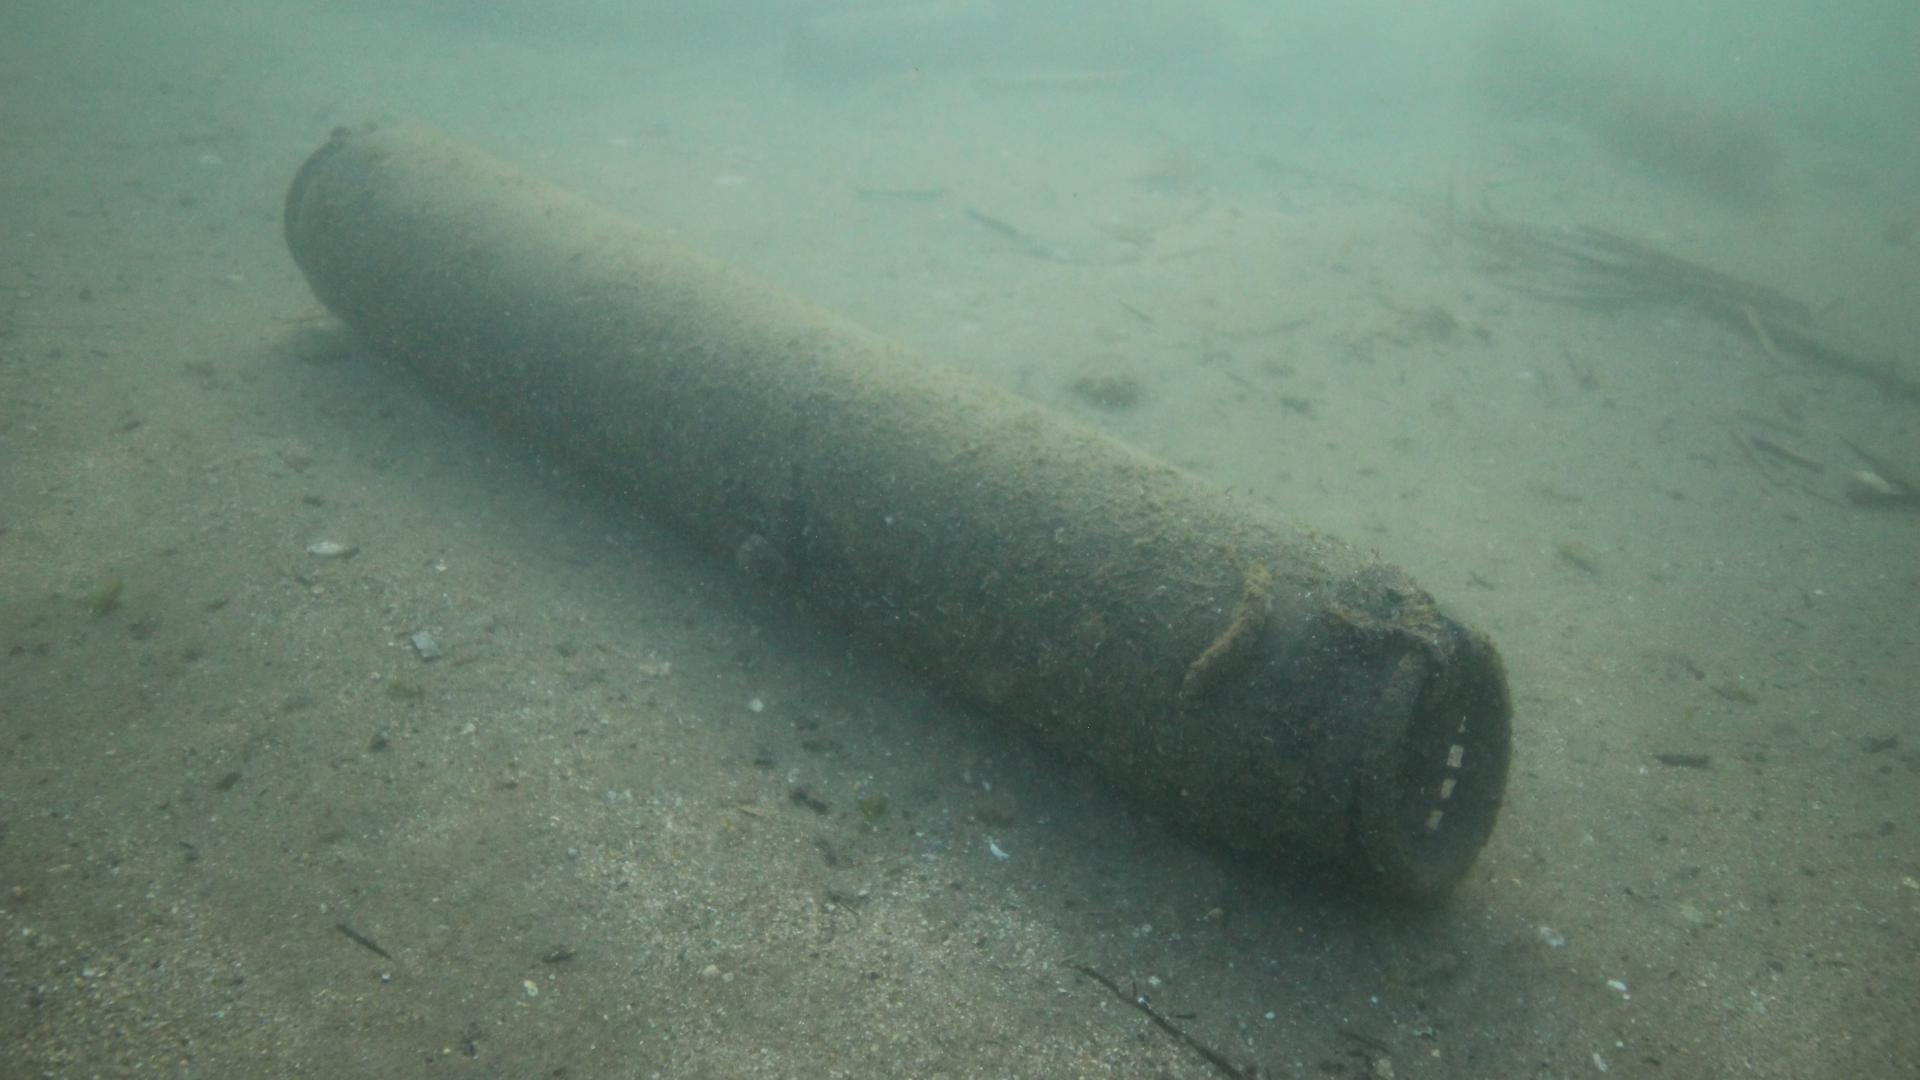eel fish trap: (280, 113, 1505, 891)
